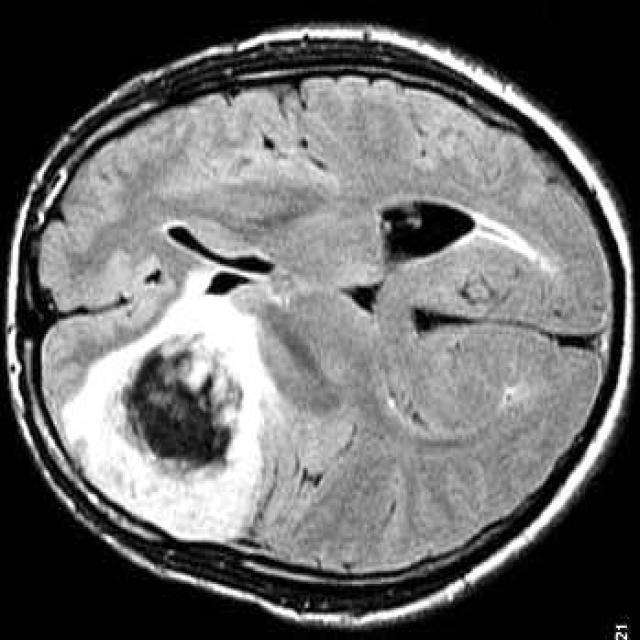tumor: (72, 287, 264, 537)
